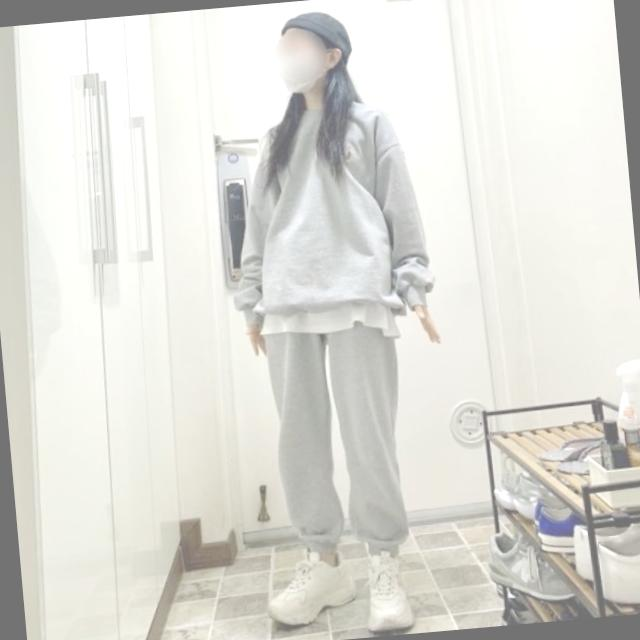mtm: (218, 90, 434, 337)
trainingpants: (260, 315, 414, 565)
